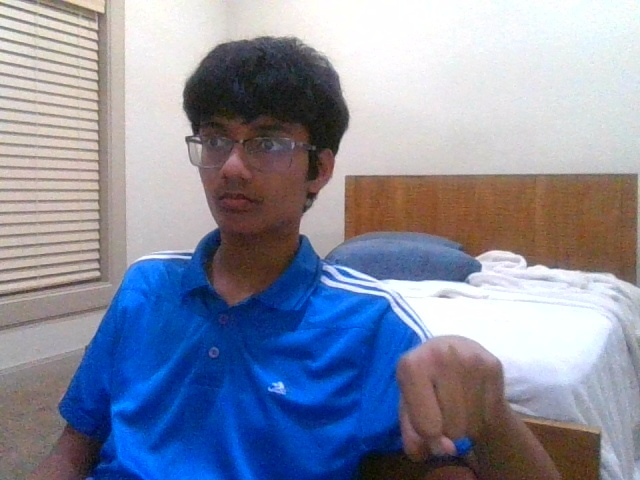yes: (400, 335, 504, 454)
